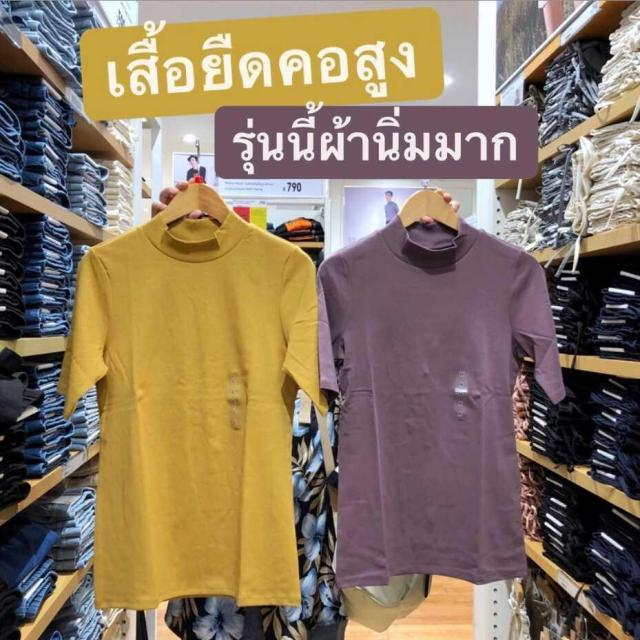Tshirt: (70, 212, 328, 615), (312, 207, 570, 585)
